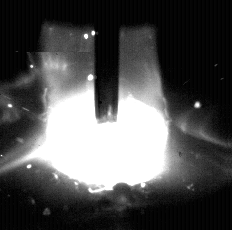arame: (95, 0, 120, 125)
poca: (45, 0, 169, 230)
